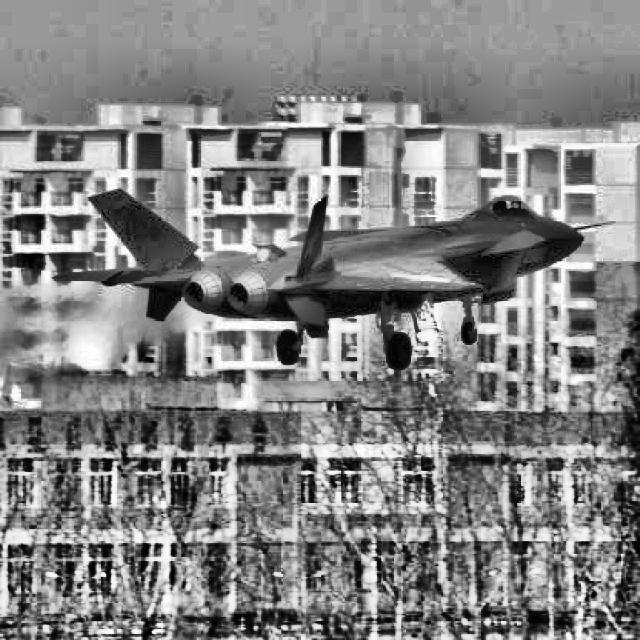J20: (51, 186, 615, 371)
